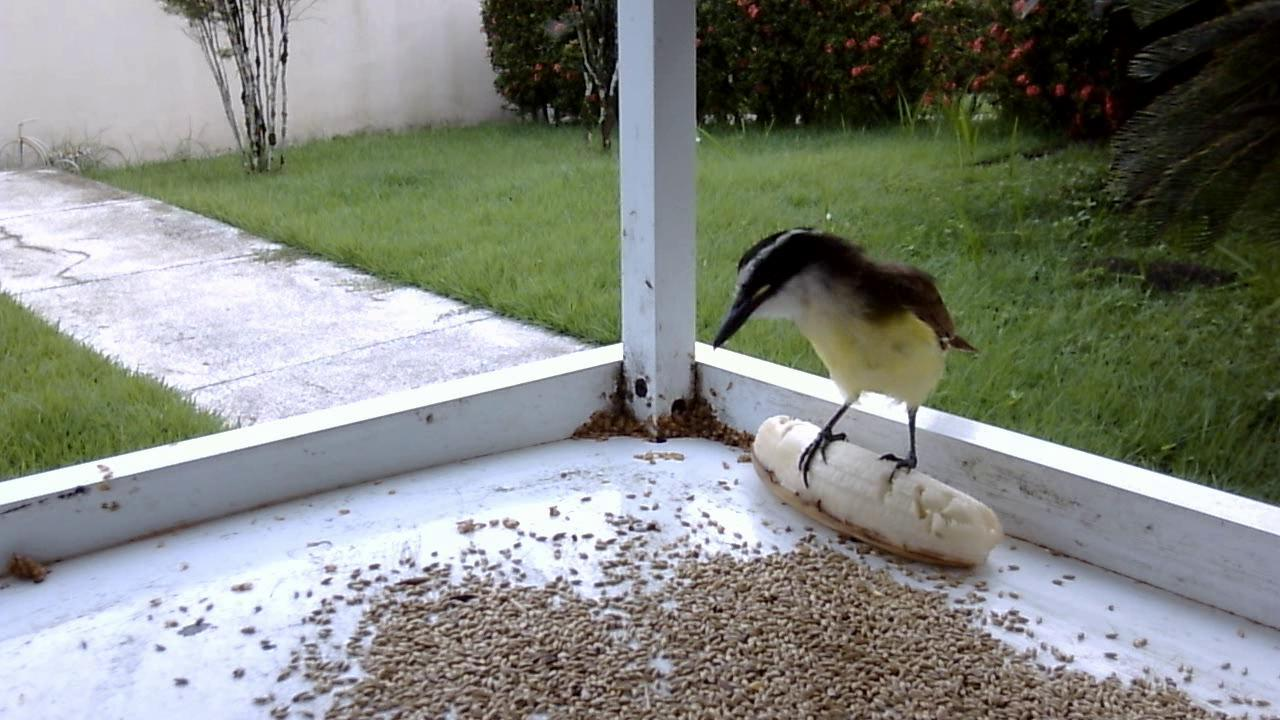bem_te_vi: (704, 214, 984, 514)
